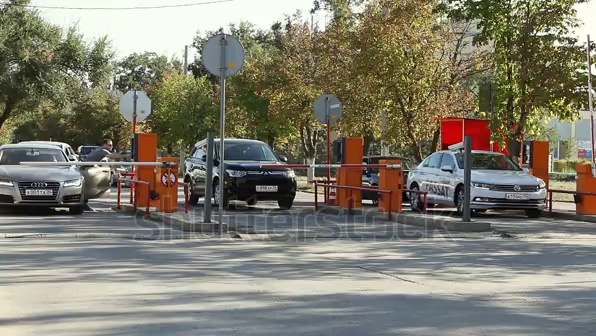licenseplate: (22, 186, 52, 204), (502, 189, 532, 204), (254, 182, 277, 194)
